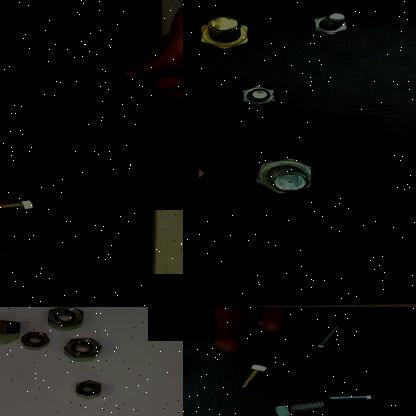Bolts: (250, 153, 328, 197), (191, 7, 258, 58), (228, 359, 282, 395), (304, 7, 350, 41), (264, 392, 328, 416), (235, 82, 281, 110), (311, 324, 343, 353), (0, 195, 38, 215), (183, 158, 202, 193), (324, 392, 376, 402)
NUTS: (60, 335, 102, 359), (44, 307, 84, 329), (19, 326, 49, 350), (72, 378, 106, 398), (0, 315, 21, 335)
